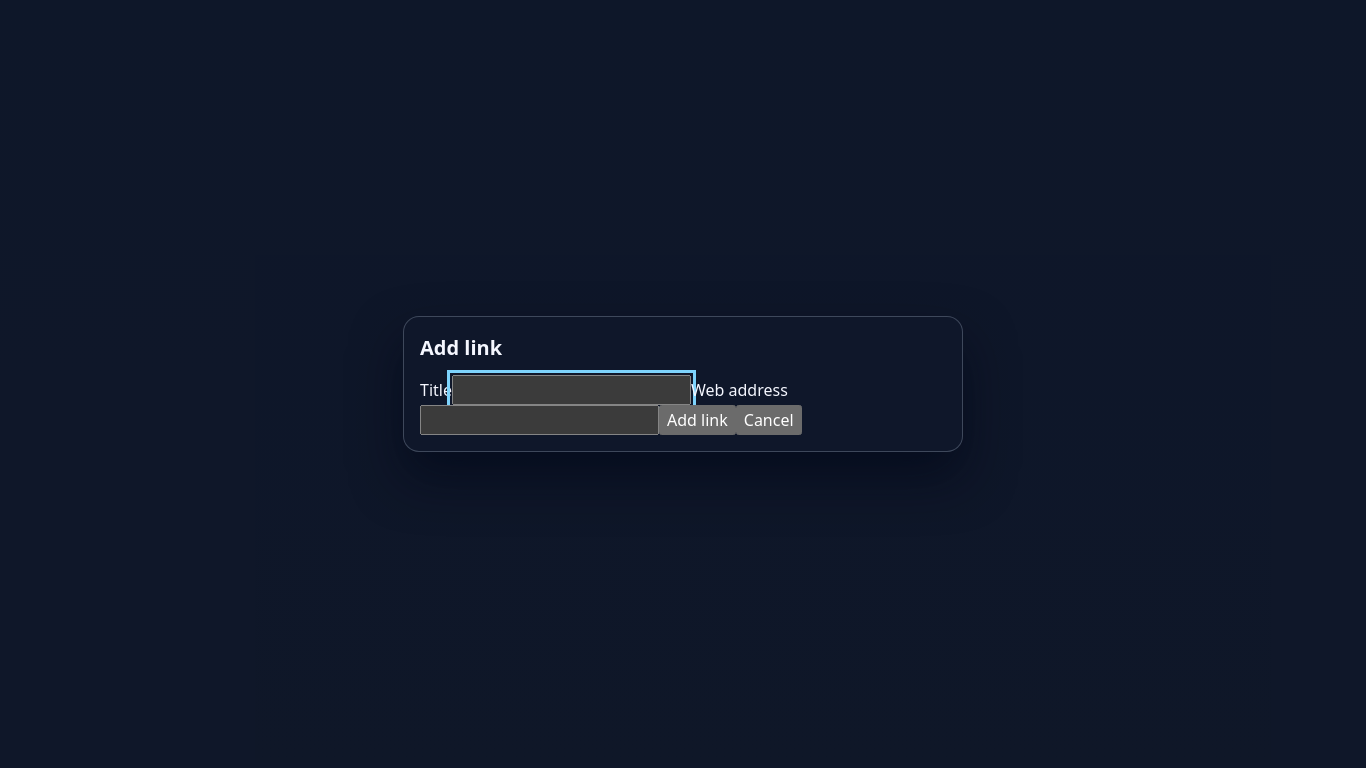
Test: LinkDialog › requires a title
Type "https://example.com" into the field labelled "Web address" at (540, 420), box [420,405,659,435]
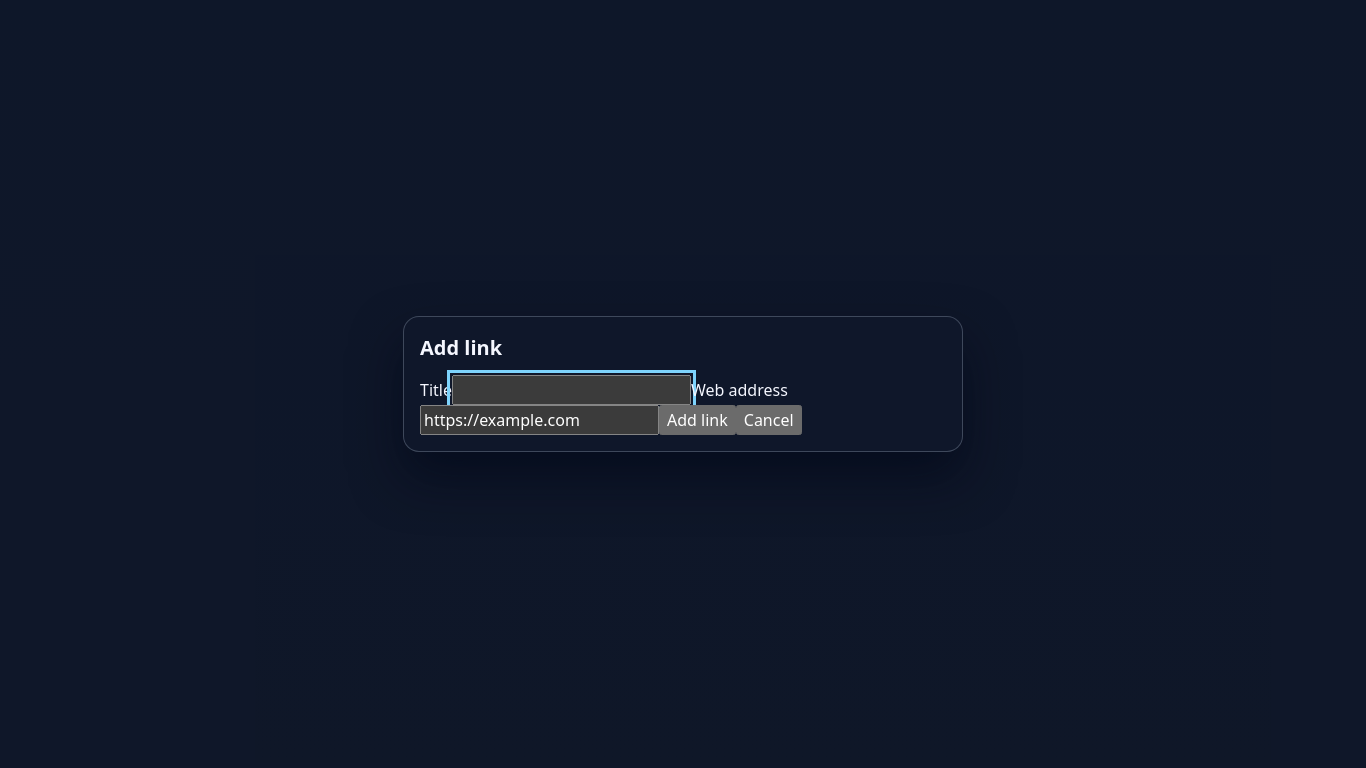
Click the button "Add link" at (697, 420), box [659,405,736,435]
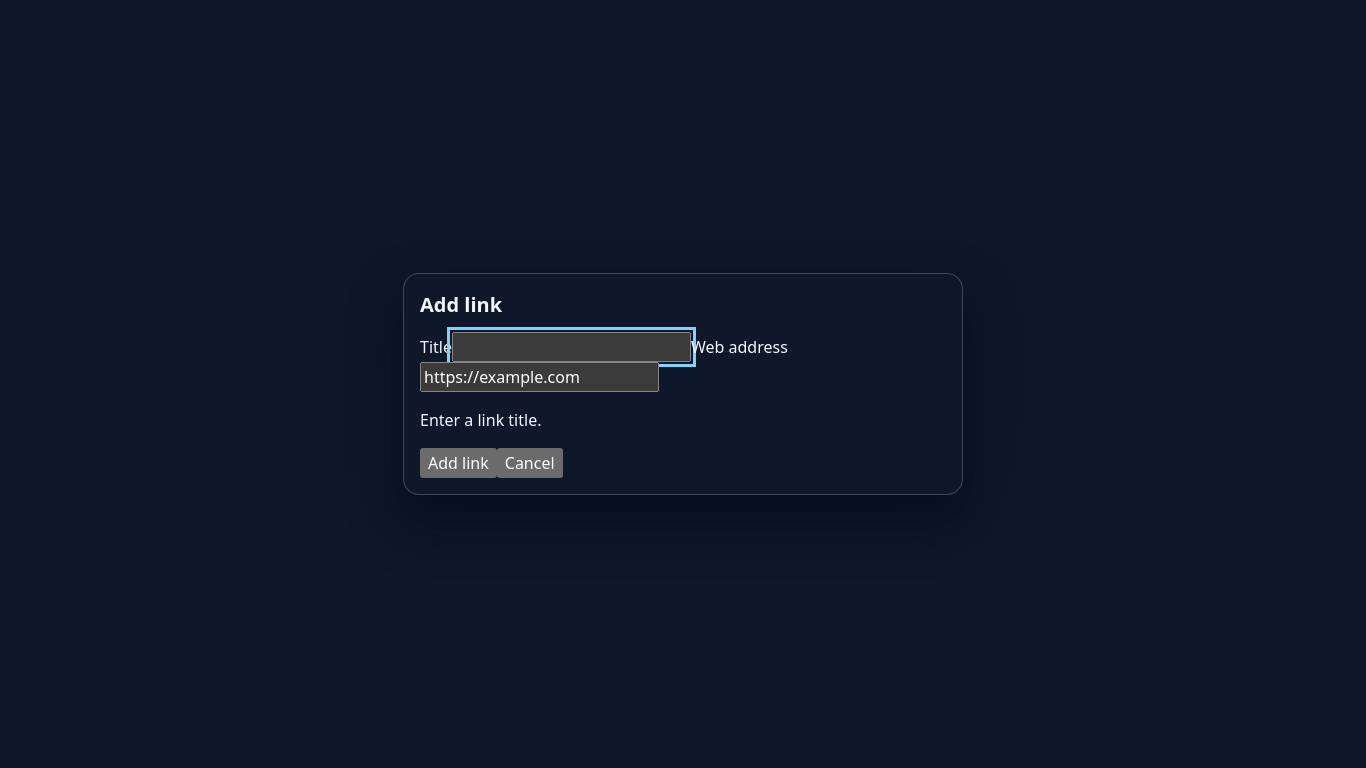
Expected: the message reads "Enter a link title.", [420,409,542,431]
